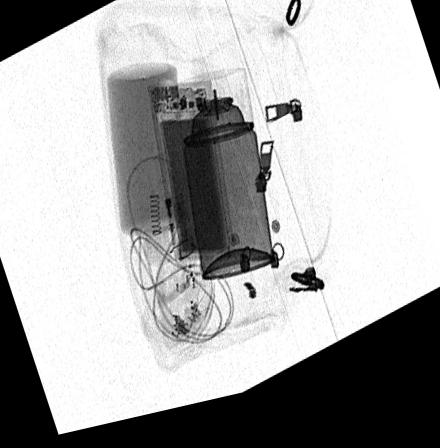Lighter: (164, 201, 194, 305)
Powerbank: (146, 90, 236, 274)
Sprayer: (176, 77, 274, 289)
